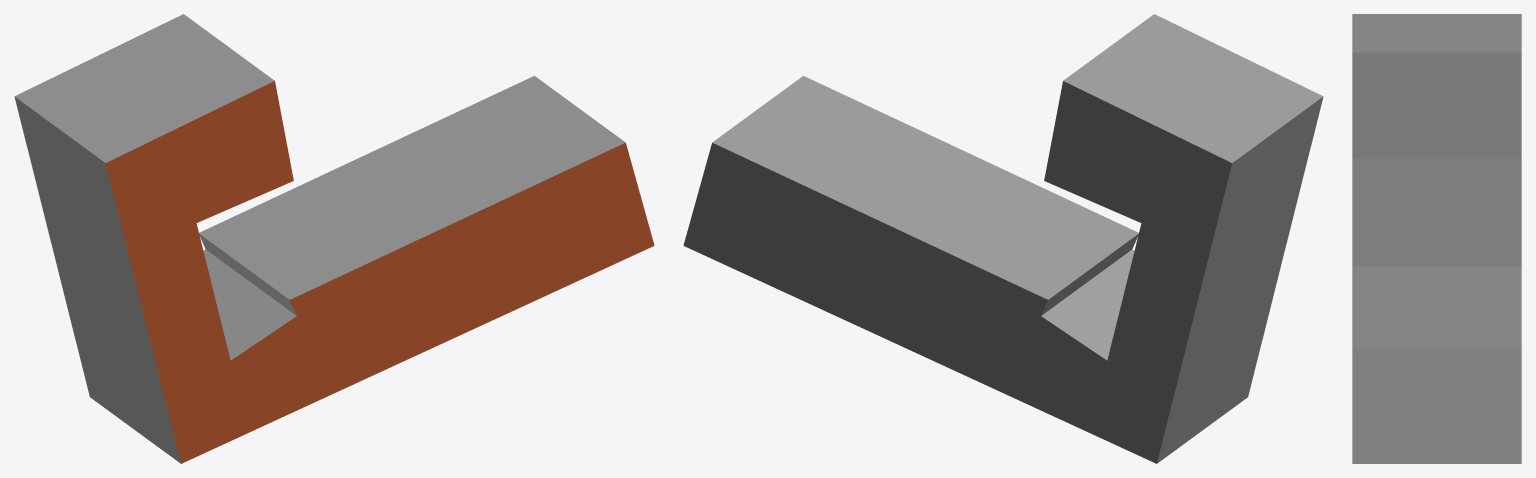
File: construction_6564_assumed_A_Casa_h6m.obj
3 renders of one model, left to right at view 1: azimuth 30°, elevation 25°; view 2: azimuth 150°, elevation 25°; view 3: azimuth 270°, elevation 25°, orthographic. The views are drawn at different scales.
Visible parts, largest first — view 1: construction_6564_assumed_A_Casa; view 2: construction_6564_assumed_A_Casa; view 3: construction_6564_assumed_A_Casa.
Part boxes in pixels (x1,y1,x2,y2): construction_6564_assumed_A_Casa: (14, 14, 654, 463); construction_6564_assumed_A_Casa: (683, 14, 1323, 463); construction_6564_assumed_A_Casa: (1352, 14, 1521, 463).
Size of the model in its own units: 20.83 by 13.06 by 6.
